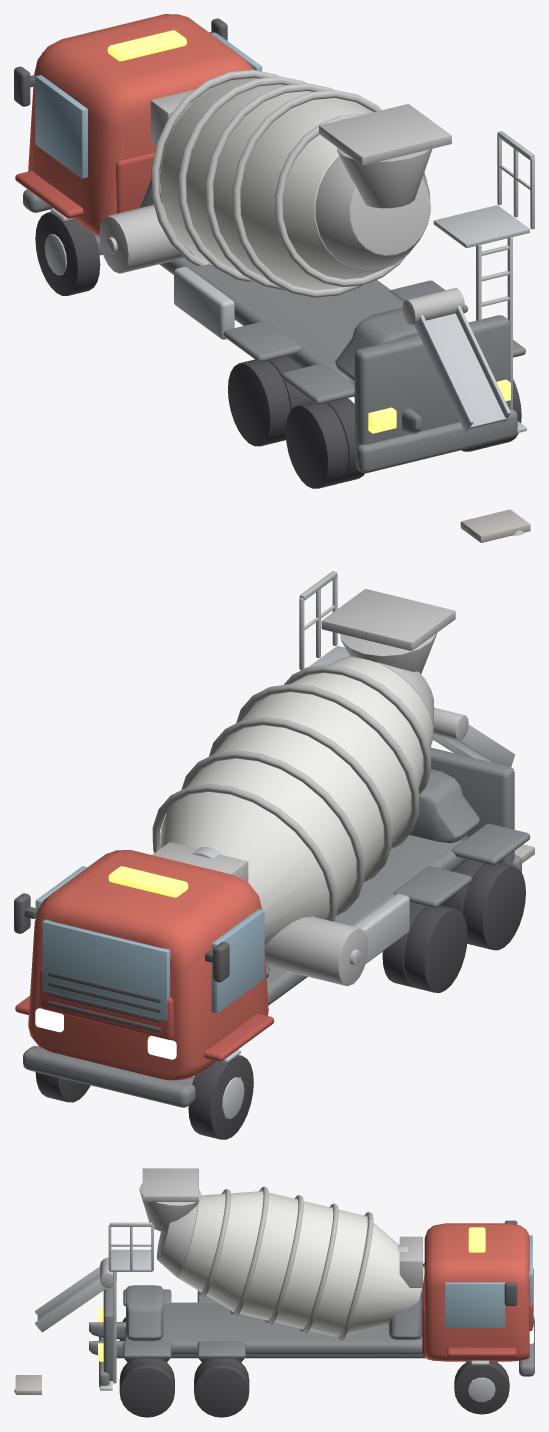
File: th21_betonmischer.glb
The picture shows the model from 3 angles, top to bottom: view 1: azimuth 30°, elevation 25°; view 2: azimuth 150°, elevation 25°; view 3: azimuth 270°, elevation 25°; orthographic projection. The views are drawn at different scales.
Visible parts, largest first — view 1: Fahrerhaus, Cone.002, Cone.001, Cube.033, Hilfsrahmen, Cone.003, Cube.032, Cylinder.006, Cylinder.003, Cube.034, Cube.012, Cylinder.018 (+28 smaller); view 2: Fahrerhaus, Cone.001, Cone, Cube.011, Cone.002, Cylinder.018, Cube.032, Hilfsrahmen, Cylinder.003, Cylinder.006, Cube.010, Cube.033 (+23 smaller); view 3: Cone.001, Fahrerhaus, Hilfsrahmen, Cone.002, Cone, Cube.018, Cylinder.014, Cylinder.011, Lagerbock hinten, Cube.032, Cylinder.008, Cone.003 (+27 smaller).
Part boxes in pixels (bbox=[...]): Fahrerhaus: bbox=[28, 14, 254, 236]; Cone.002: bbox=[240, 98, 394, 290]; Cone.001: bbox=[160, 78, 311, 279]; Cube.033: bbox=[354, 315, 510, 452]; Hilfsrahmen: bbox=[159, 257, 403, 385]; Cone.003: bbox=[315, 156, 430, 270]; Cube.032: bbox=[319, 104, 451, 165]; Cylinder.006: bbox=[285, 401, 348, 488]; Cylinder.003: bbox=[228, 359, 290, 446]; Cube.034: bbox=[356, 408, 517, 473]; Cube.012: bbox=[35, 75, 87, 178]; Cylinder.018: bbox=[99, 202, 193, 273]; Fahrerhaus: bbox=[28, 850, 268, 1080]; Cone.001: bbox=[186, 692, 411, 910]; Cone: bbox=[160, 792, 329, 944]; Cube.011: bbox=[42, 919, 170, 1020]; Cone.002: bbox=[291, 657, 433, 788]; Cylinder.018: bbox=[264, 916, 368, 986]; Cube.032: bbox=[321, 589, 455, 650]; Hilfsrahmen: bbox=[266, 835, 466, 1005]; Cylinder.003: bbox=[404, 905, 467, 992]; Cylinder.006: bbox=[462, 862, 525, 950]; Cube.010: bbox=[23, 1046, 195, 1107]; Cube.033: bbox=[430, 747, 514, 865]; Cone.001: bbox=[239, 1192, 367, 1336]; Fahrerhaus: bbox=[424, 1223, 529, 1361]; Hilfsrahmen: bbox=[145, 1302, 422, 1354]; Cone.002: bbox=[177, 1191, 263, 1311]; Cone: bbox=[338, 1217, 424, 1336]; Cube.018: bbox=[444, 1282, 505, 1327]; Cylinder.014: bbox=[119, 1361, 174, 1417]; Cylinder.011: bbox=[194, 1361, 249, 1417]; Lagerbock hinten: bbox=[126, 1285, 163, 1340]; Cube.032: bbox=[142, 1168, 198, 1201]; Cylinder.008: bbox=[454, 1361, 509, 1414]; Cone.003: bbox=[156, 1204, 197, 1277].
Size of the model in its own units: 3.18 by 4.26 by 9.81.
